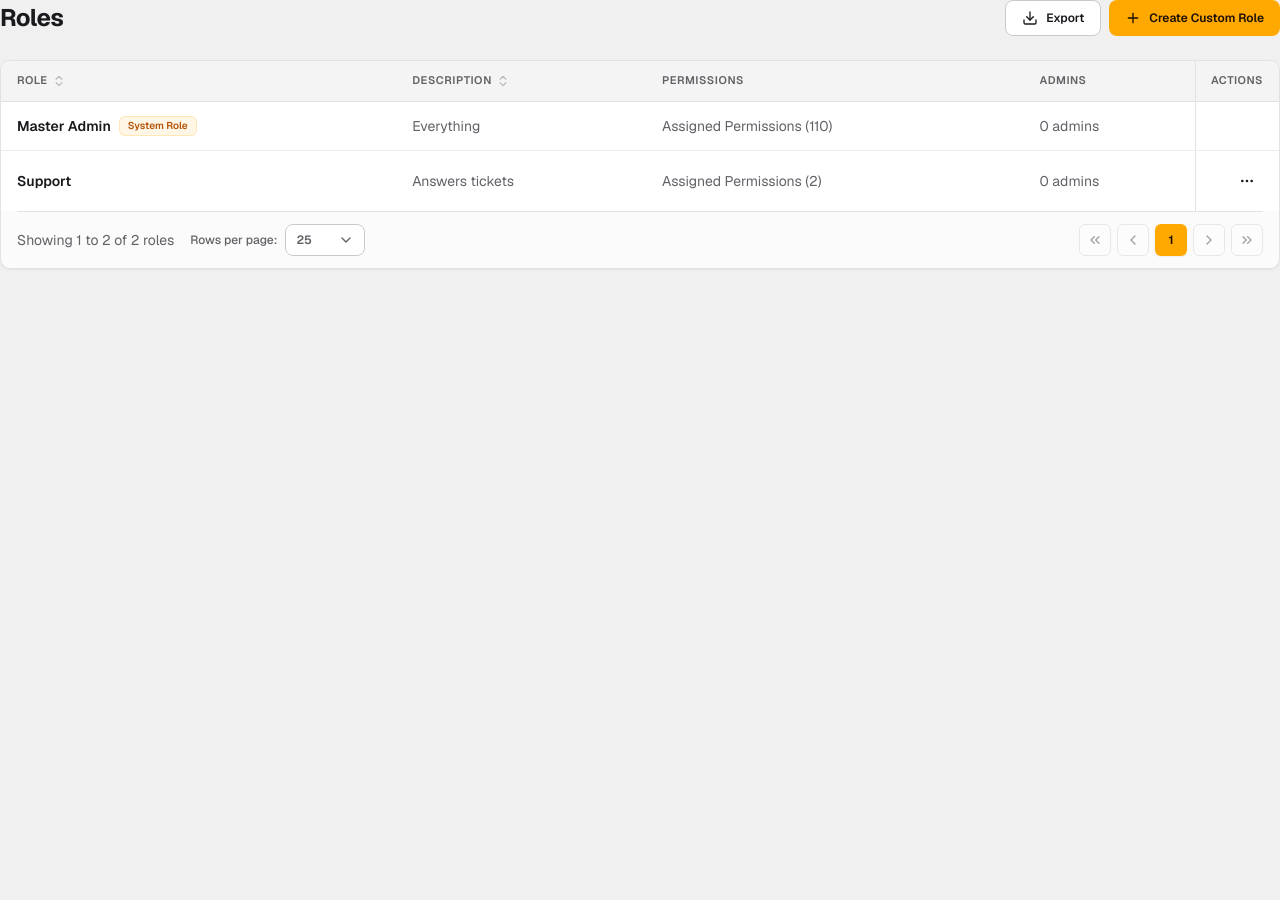
it: deleting a role › asks before deleting, and does not delete on its own
The image size is (1280, 900).
expect the text "Support" is shown: met, box top-left (17, 171), bottom-right (71, 191)
Click the button named "actions for support". click: (1247, 181)
box: top-left (1231, 165), bottom-right (1263, 197)
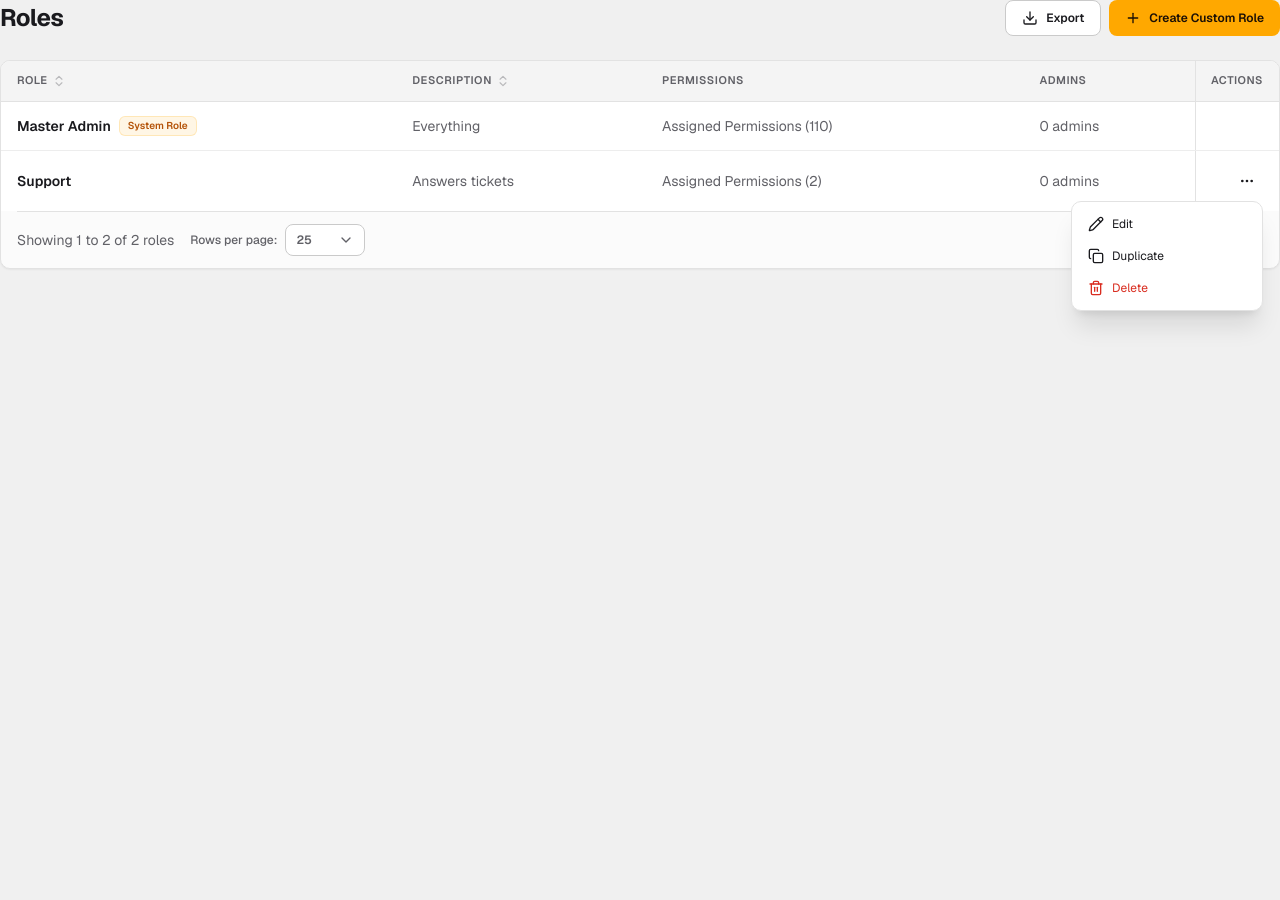
Click the menu item "Delete". click: (1118, 288)
box: top-left (1088, 280), bottom-right (1148, 296)
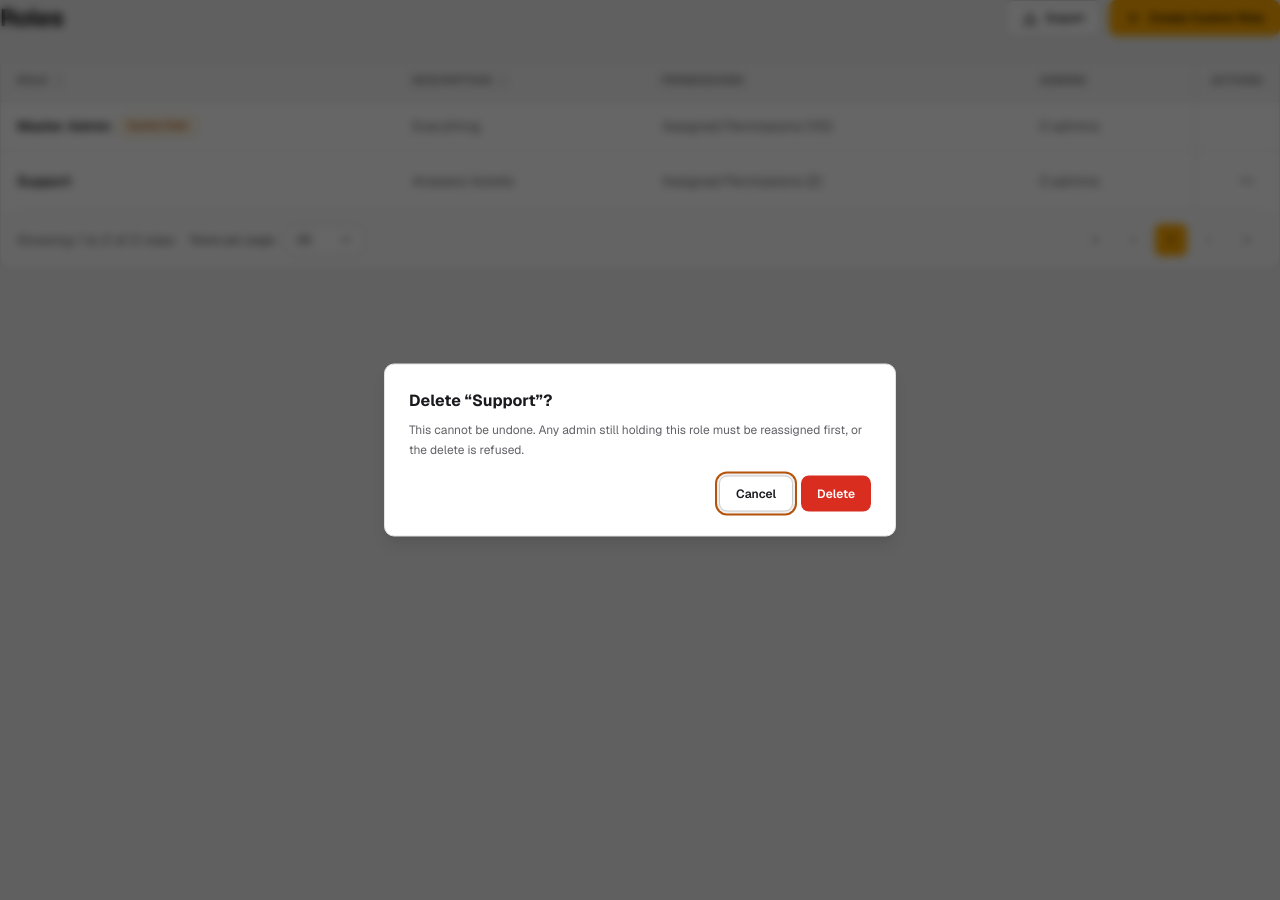
expect the dialog is shown: met, box top-left (384, 364), bottom-right (896, 536)
expect the text "cannot be undone" is shown: met, box top-left (409, 422), bottom-right (862, 457)
